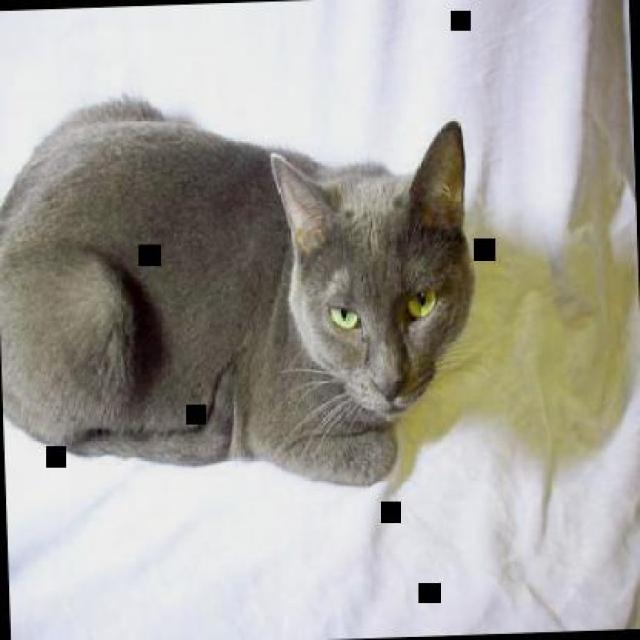cat: (0, 89, 483, 508)
